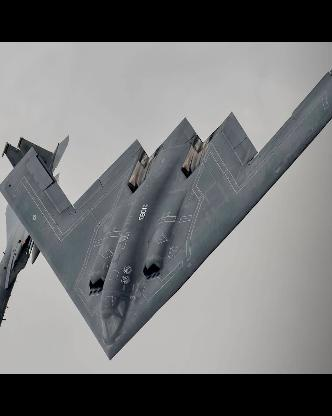B1: (0, 57, 331, 362)
F117: (0, 134, 69, 352)
